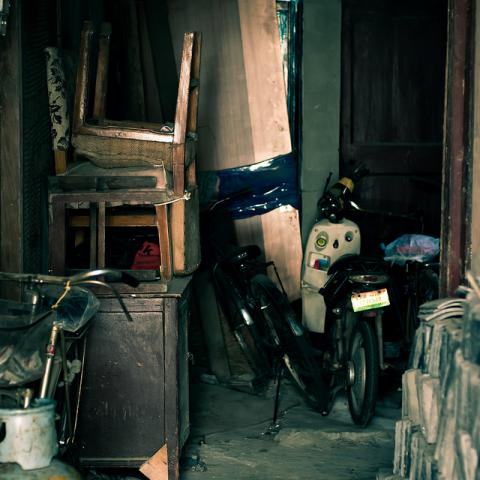motorcycle: (299, 150, 389, 429)
